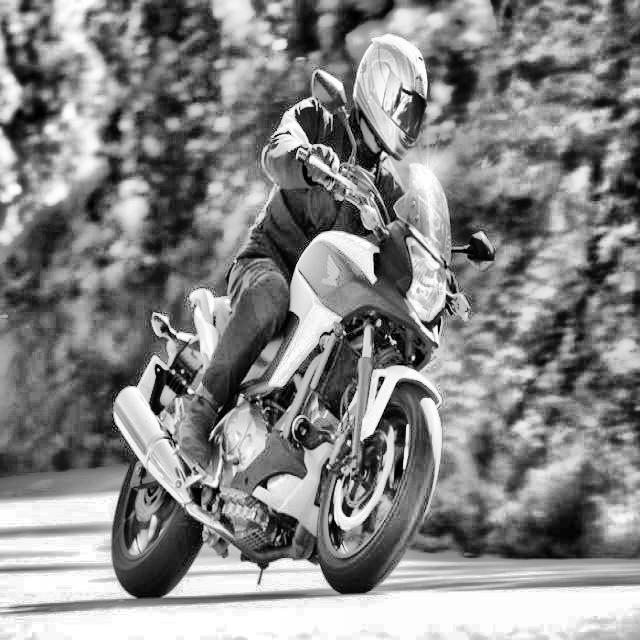Helmet: (350, 30, 430, 166)
